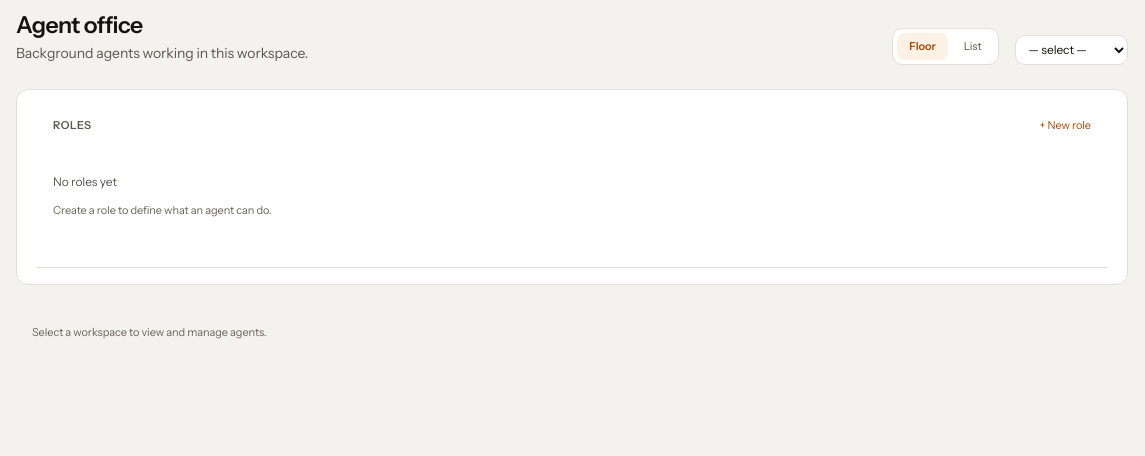
Scenario: AgentOfficeView › workspace select drives the agent board
The width and height of the screenshot is (1145, 456).
Click the button "list" at (973, 47), box [952, 33, 994, 60]
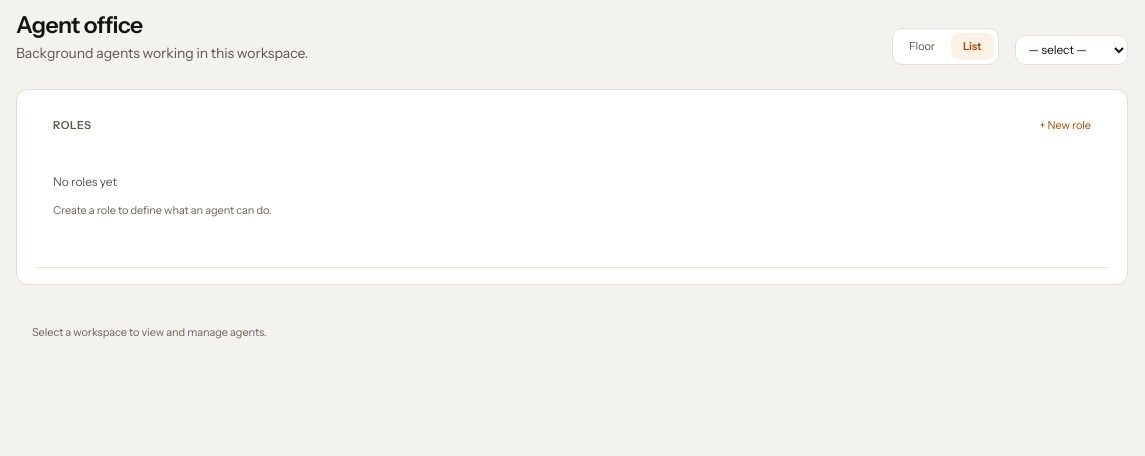
Select "my-project" in the dropdown named "Select workspace" at (1071, 50), box [1014, 35, 1128, 65]
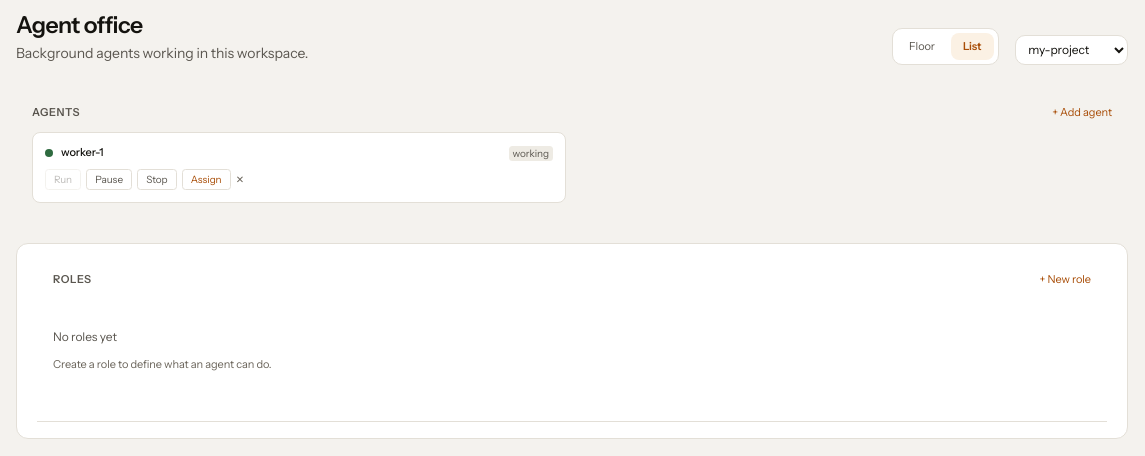
Expected: the text "worker-1" is shown, [61, 145, 103, 159]
